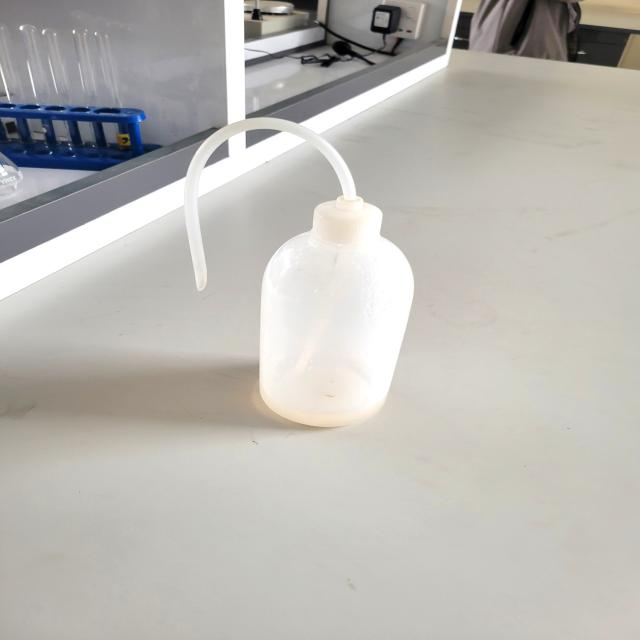Wash_Bottle: (172, 103, 448, 460)
